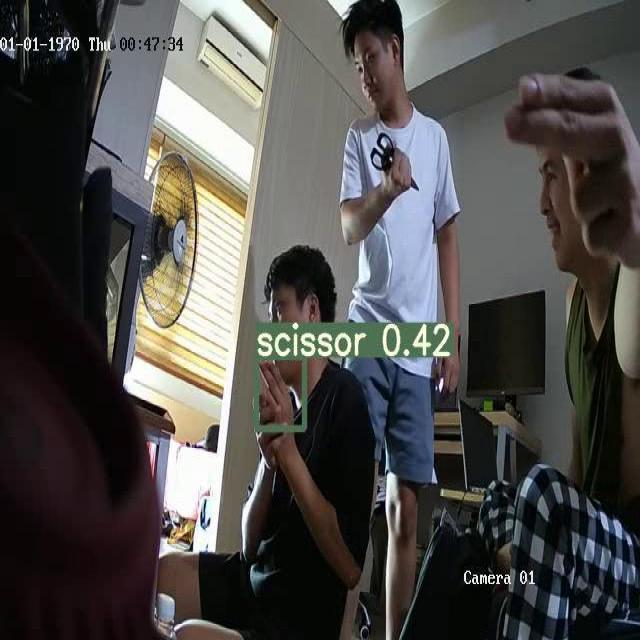scissor: (369, 134, 418, 190)
